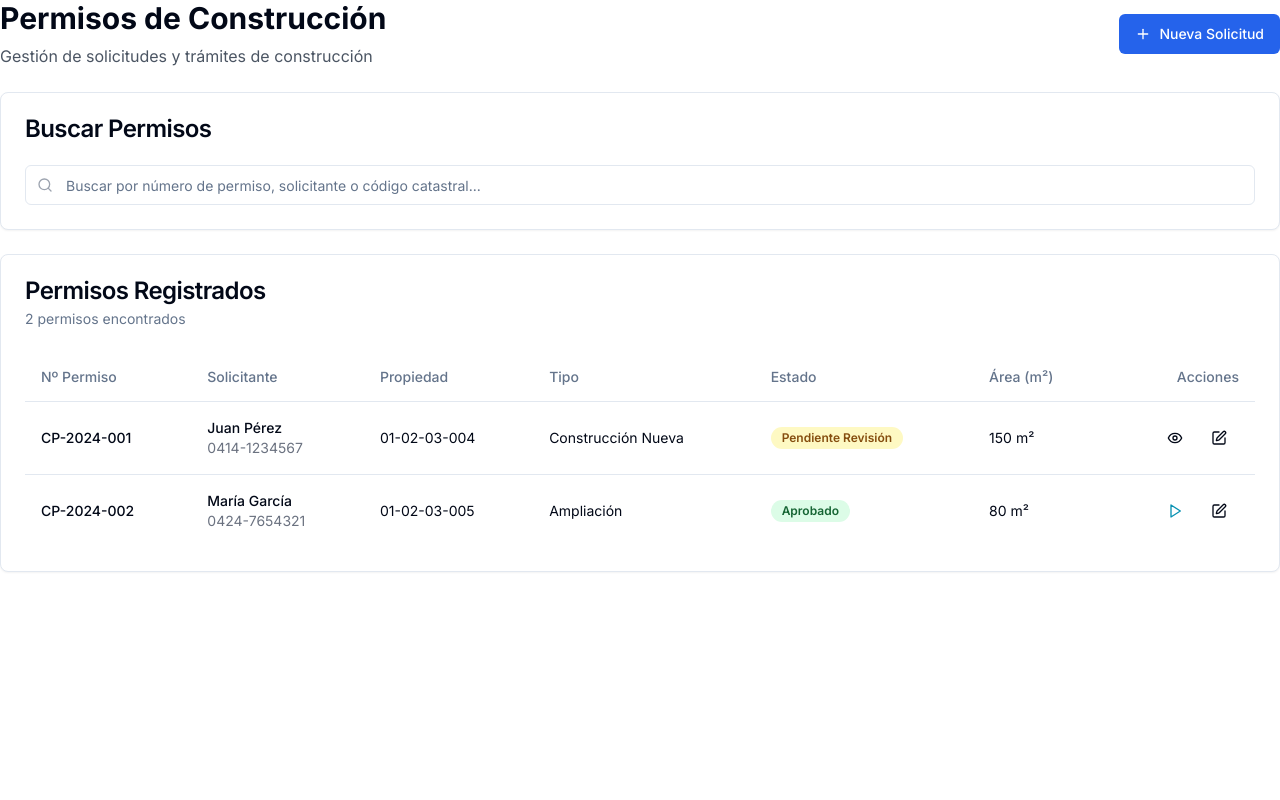
Test case: Catastro Integration Tests › Construction Permits Management › opens dialog when clicking new permit button
Expected: the text "CP-2024-001" is shown, [25,401,191,474]
Click the button "Nueva Solicitud" at coordinates (1200, 34), box [1119,14,1279,54]
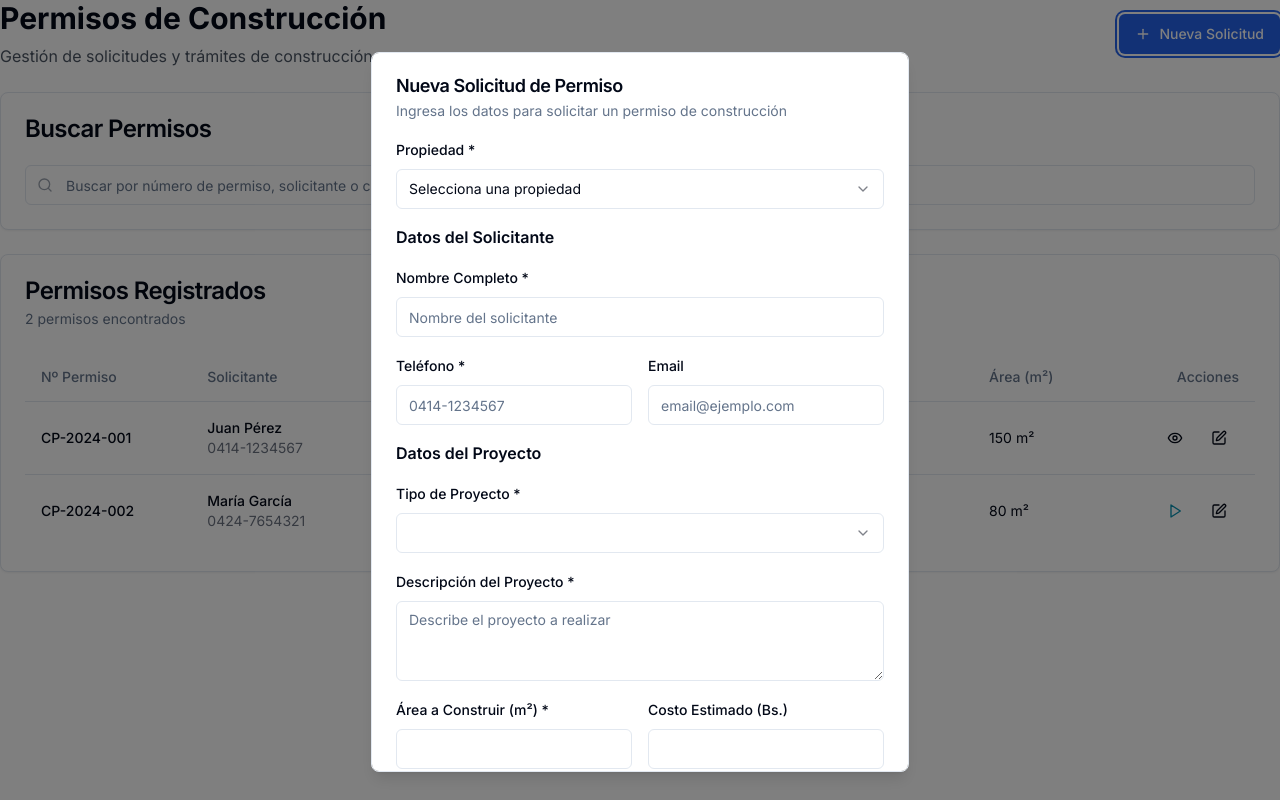
Expected: the heading "Nueva Solicitud de Permiso" is shown, [396,75,623,96]
